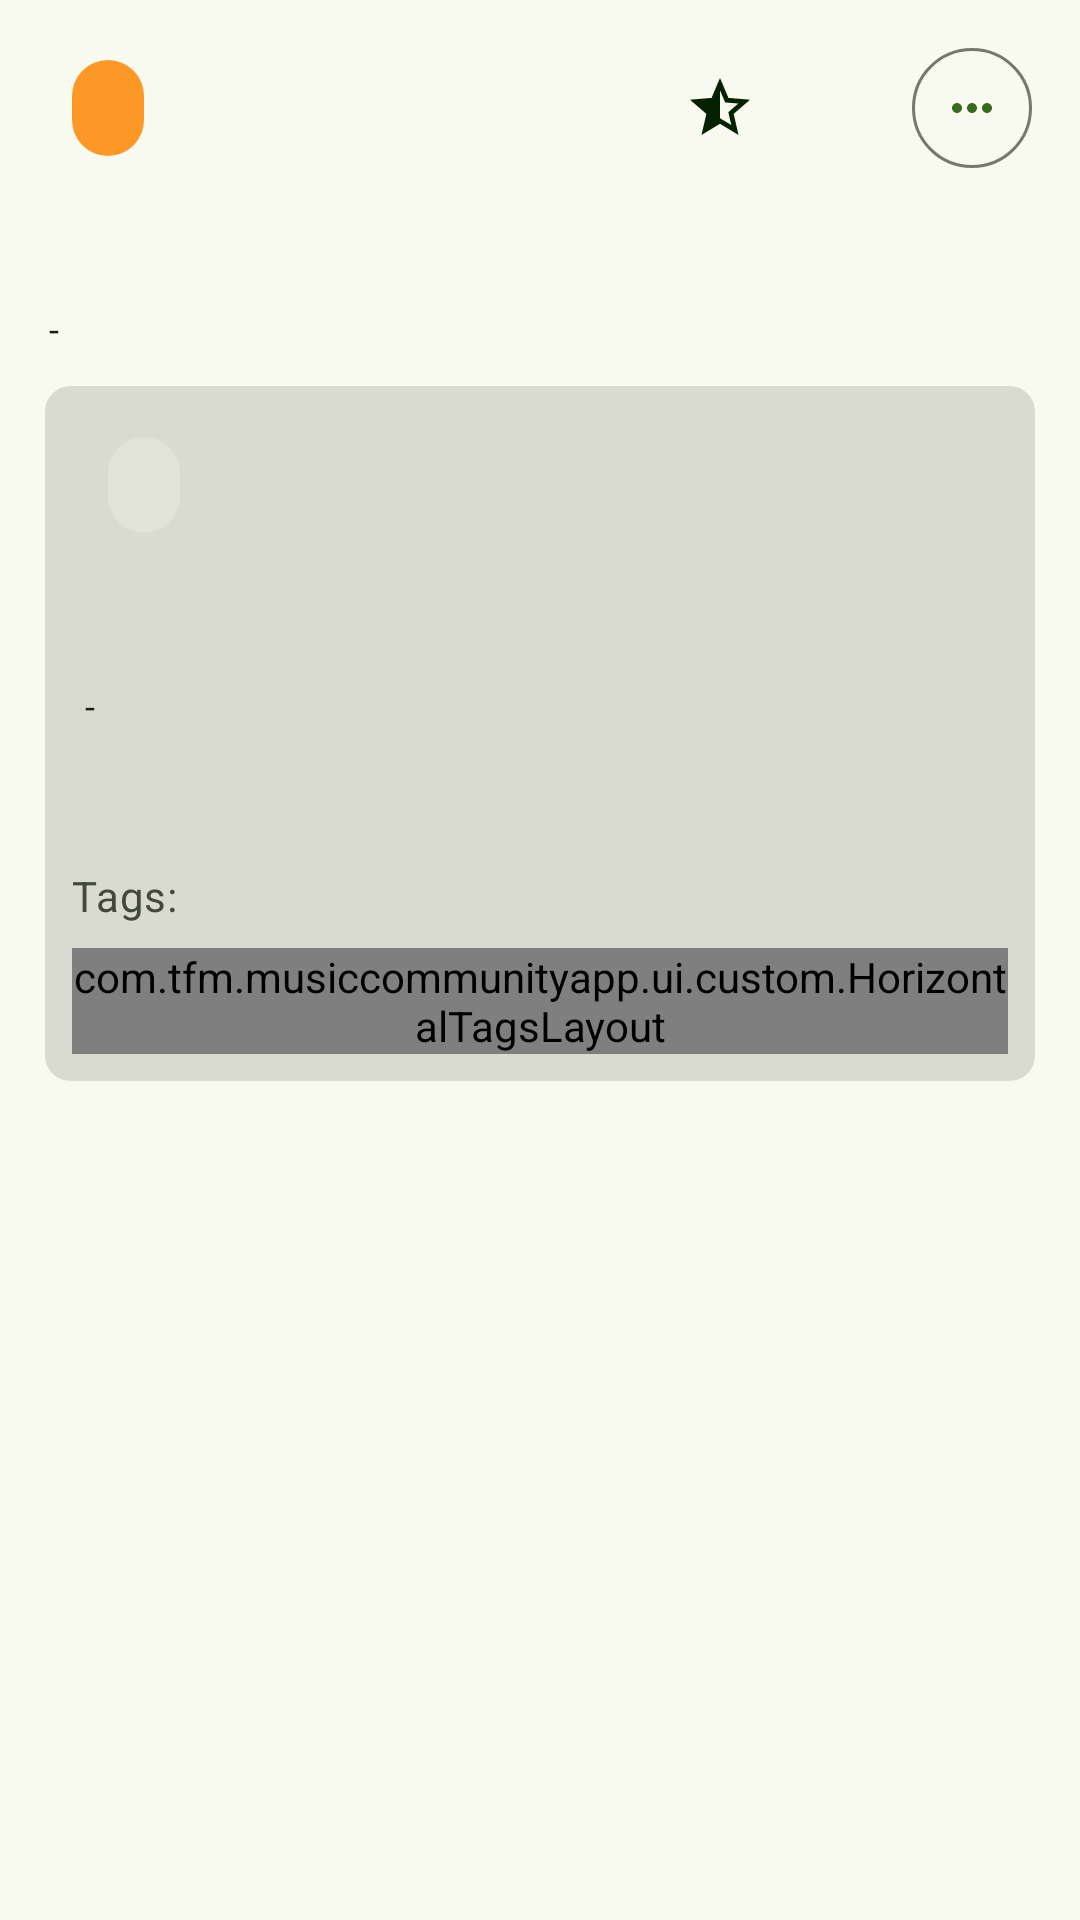

Icon bounding boxes for this 1080 x 1920 phone screenshot, format (x1, y1, x2, y2):
dots more: (912, 48, 1032, 168)
rating recommendation: (690, 78, 750, 135)
